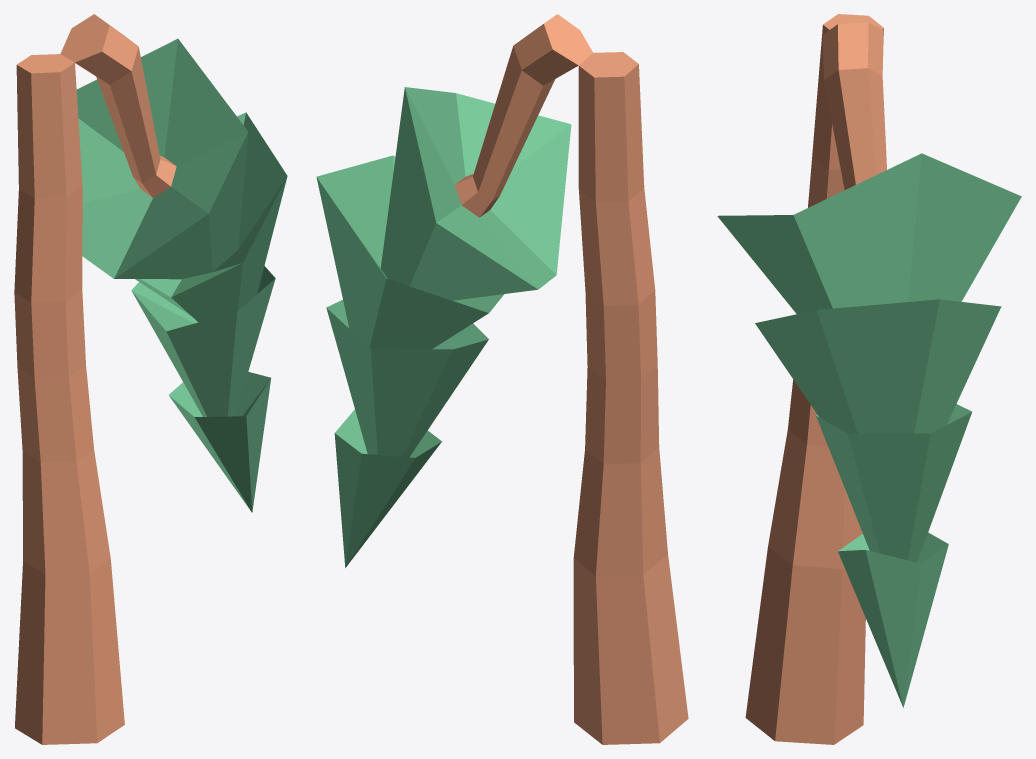
The model's file is Pine_5.obj.
The picture shows the model from 3 angles, left to right: view 1: azimuth 30°, elevation 25°; view 2: azimuth 150°, elevation 25°; view 3: azimuth 270°, elevation 25°; orthographic projection. The views are drawn at different scales.
Parts seen in each view (by area): view 1: Pine_5; view 2: Pine_5; view 3: Pine_5.
Boxes of the visible parts, box(x1,y1,x2,y2) form: Pine_5: box(14, 14, 287, 744); Pine_5: box(316, 14, 688, 744); Pine_5: box(717, 14, 1021, 744).
Size of the model in its own units: 3.47 by 8.04 by 3.04.
